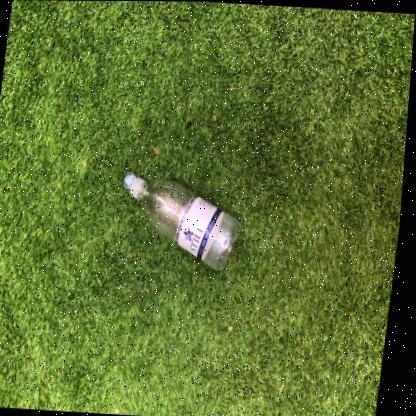Plastic: (126, 171, 244, 270)
